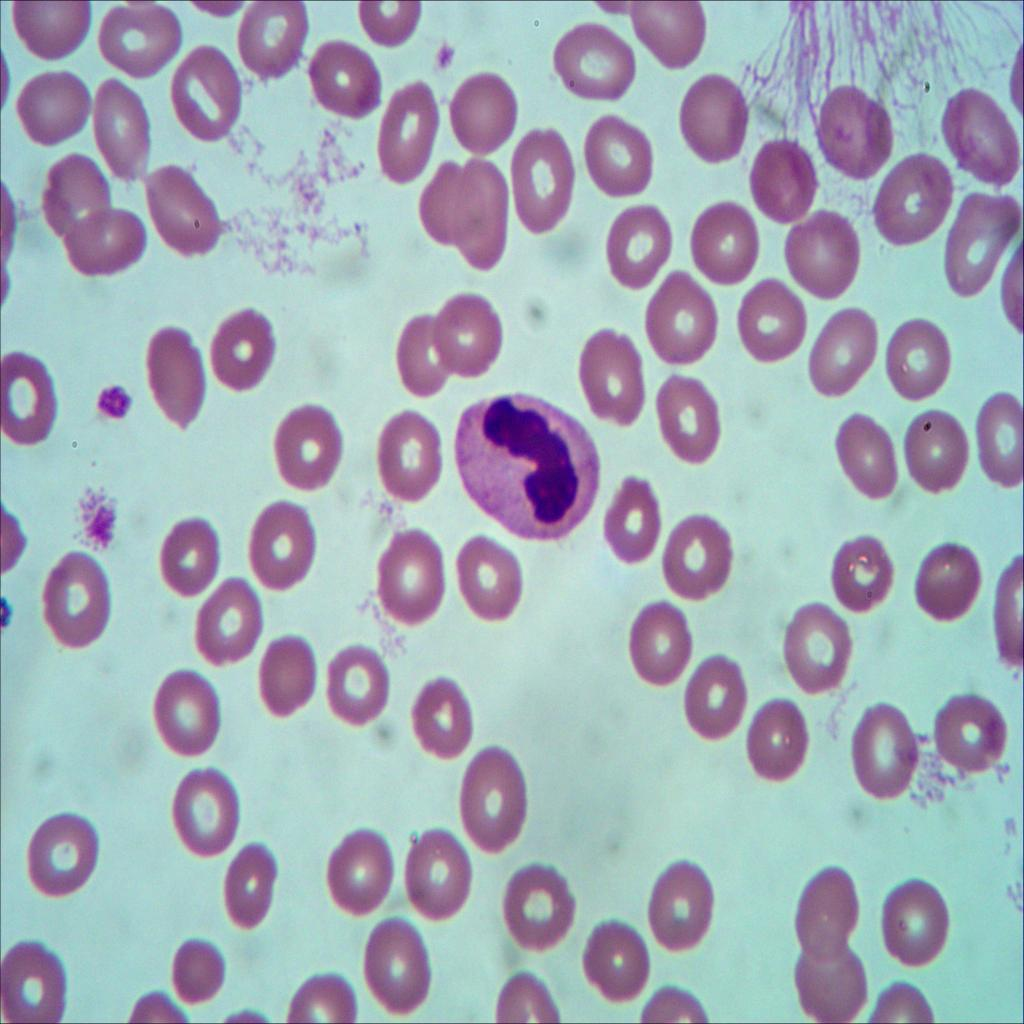Eritrosit: (822, 408, 922, 516), (784, 195, 872, 306), (367, 65, 440, 198), (934, 83, 1024, 190), (812, 81, 900, 187), (942, 184, 1022, 300), (640, 268, 730, 370), (881, 863, 954, 985), (507, 121, 579, 244), (570, 325, 652, 433), (238, 492, 320, 596), (904, 525, 983, 631), (138, 160, 223, 258), (733, 132, 825, 222), (164, 763, 249, 859), (144, 320, 212, 440), (41, 545, 113, 658), (461, 739, 531, 855), (142, 664, 224, 763), (769, 599, 855, 693), (734, 687, 814, 788), (376, 517, 450, 626), (638, 845, 712, 953), (223, 0, 314, 87), (446, 68, 528, 164), (872, 148, 954, 244), (804, 302, 884, 400), (581, 111, 666, 203), (784, 864, 862, 964), (400, 146, 482, 241), (626, 0, 725, 78), (297, 32, 380, 125), (737, 282, 820, 374), (620, 595, 702, 688), (206, 294, 280, 396), (400, 822, 474, 922), (679, 68, 754, 166), (688, 187, 761, 287), (170, 46, 242, 147), (594, 192, 673, 284), (0, 352, 71, 454), (21, 814, 103, 902), (325, 822, 397, 922), (855, 706, 927, 806), (458, 160, 517, 282), (878, 309, 952, 406), (92, 0, 186, 76), (365, 416, 449, 501), (0, 937, 82, 1024), (932, 688, 1011, 778), (500, 855, 576, 948), (67, 201, 152, 284), (430, 287, 511, 374), (157, 508, 228, 606), (594, 468, 666, 564), (793, 932, 868, 1024), (266, 407, 348, 490), (362, 921, 432, 1018), (452, 536, 530, 623), (651, 382, 731, 466), (327, 642, 400, 734), (39, 154, 115, 241), (92, 79, 156, 181), (966, 387, 1024, 499), (250, 632, 320, 724), (408, 671, 481, 758), (662, 509, 731, 601), (16, 68, 92, 151), (190, 577, 263, 663), (830, 525, 895, 620), (674, 650, 743, 739), (220, 838, 283, 932), (555, 27, 635, 100), (583, 920, 649, 1008), (382, 309, 450, 392), (7, 0, 91, 67), (905, 408, 969, 492), (169, 928, 229, 1013), (488, 966, 567, 1024), (283, 964, 356, 1024), (352, 0, 426, 48)
Neutrofil: (458, 387, 608, 556)
Platelet: (94, 376, 135, 433), (80, 501, 118, 550), (432, 38, 464, 83)
